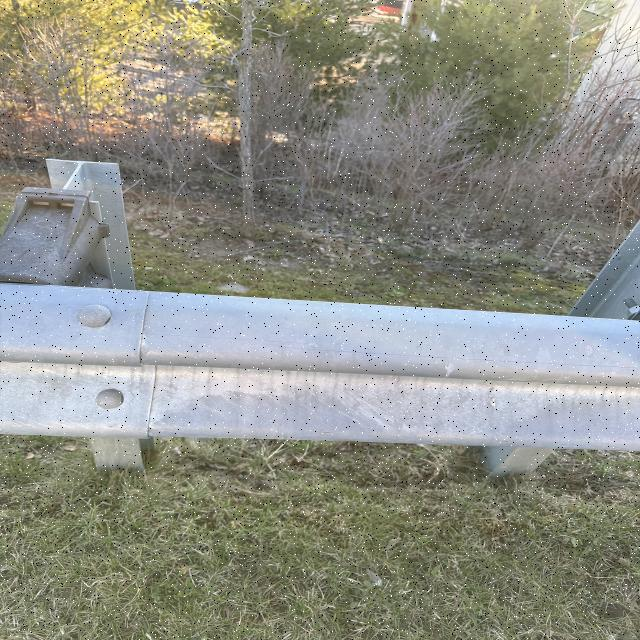Guard rail: (28, 243, 636, 457), (1, 163, 135, 287)
